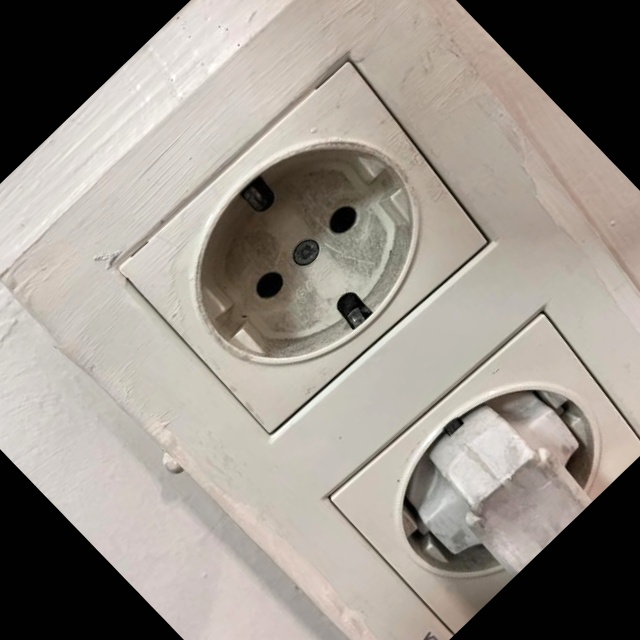pozidriv: (288, 234, 325, 271)
